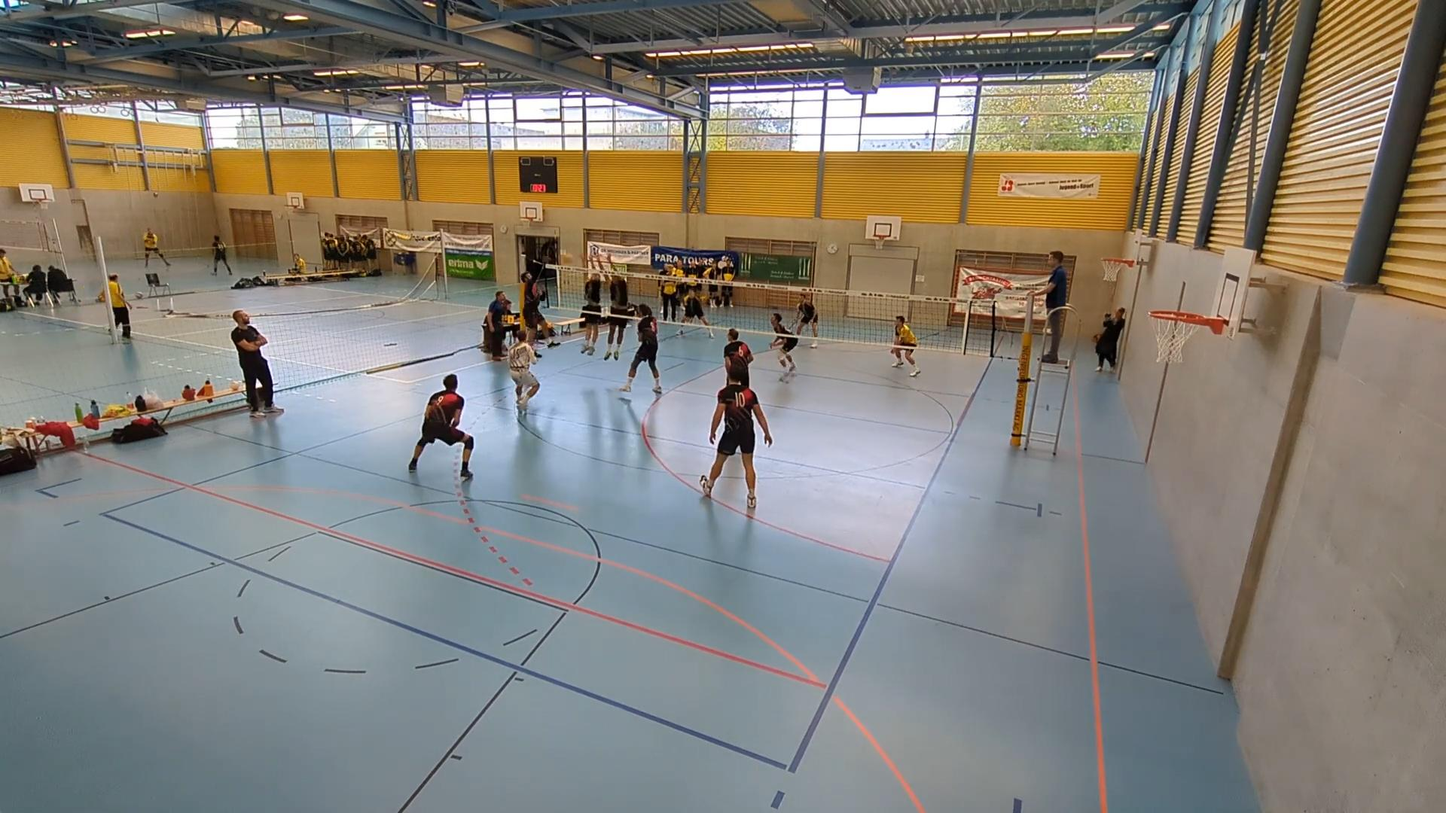attacco: (519, 231, 562, 359)
muro: (599, 248, 631, 361), (577, 245, 602, 357)
